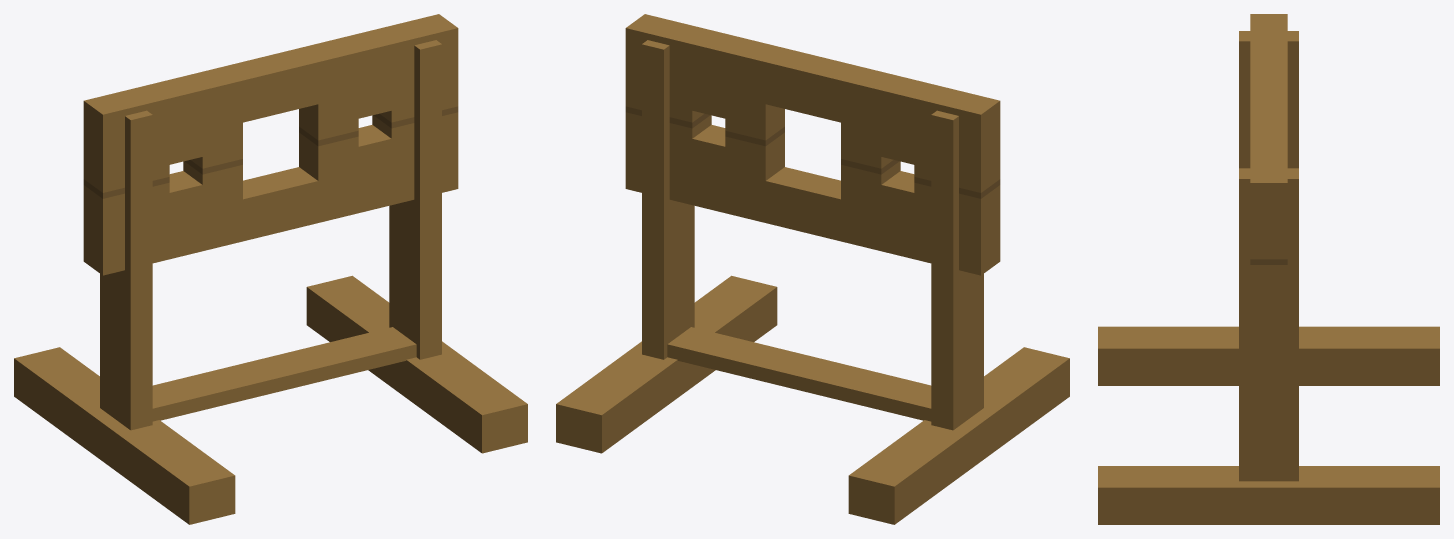
File: Stocks.gltf
3 views of the same model, side by side, from view 1: azimuth 30°, elevation 25°; view 2: azimuth 150°, elevation 25°; view 3: azimuth 270°, elevation 25° (orthographic). The views are drawn at different scales.
Visible parts, largest first — view 1: SF_Prop_Stocks_01; view 2: SF_Prop_Stocks_01; view 3: SF_Prop_Stocks_01.
Part boxes in pixels (x1=…): SF_Prop_Stocks_01: x1=14, y1=14, x2=527, y2=524; SF_Prop_Stocks_01: x1=556, y1=14, x2=1069, y2=524; SF_Prop_Stocks_01: x1=1098, y1=14, x2=1439, y2=524.
Size of the model in its own units: 0.0231 by 0.0221 by 0.0198.
1 material, 1 textured.
